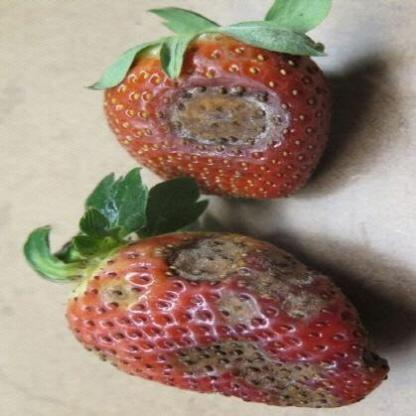Strawberry_Anthracnose_Fruit_Rot: (152, 232, 392, 409), (147, 75, 293, 157)
